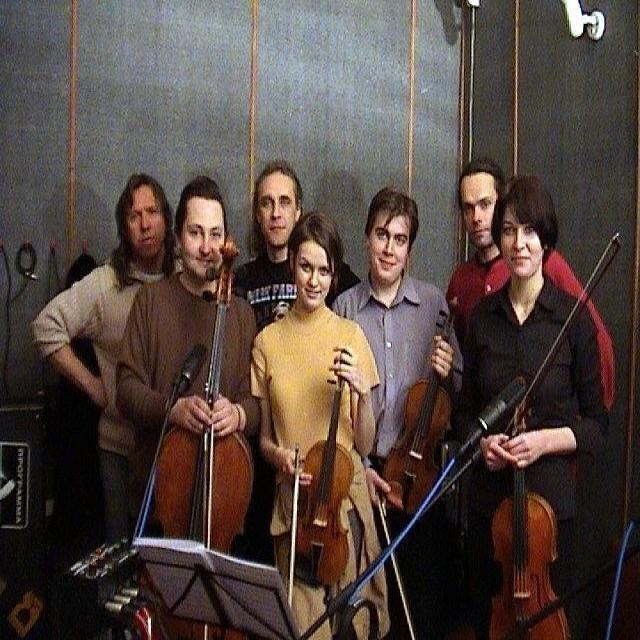cello: (151, 236, 257, 639)
violin: (485, 375, 569, 639), (380, 304, 458, 518), (288, 346, 357, 584)
